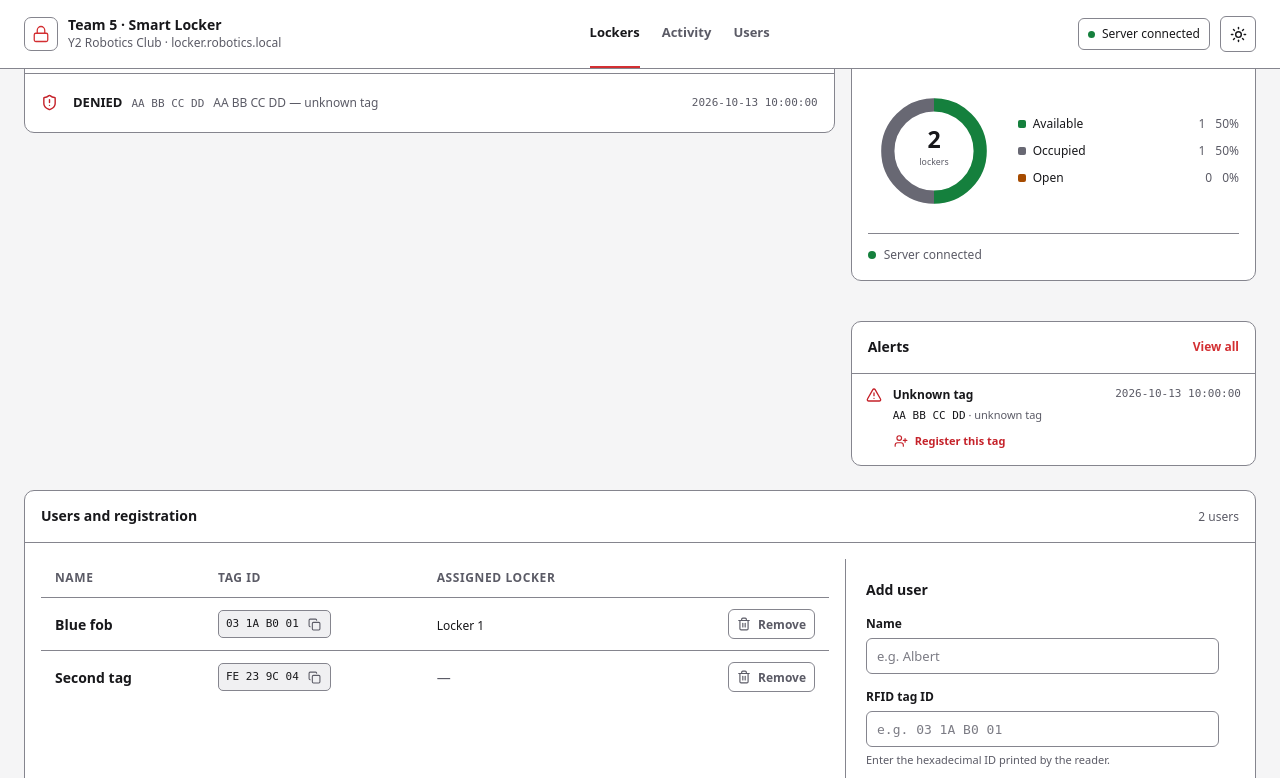
Scenario: dashboard runtime regressions › 'Register this tag' pre-fills the form every time, even for the same tag
The width and height of the screenshot is (1280, 778).
(page scrolled)
Step 1. Click the button "Register this tag" → (950, 441), box [893, 428, 1006, 453]
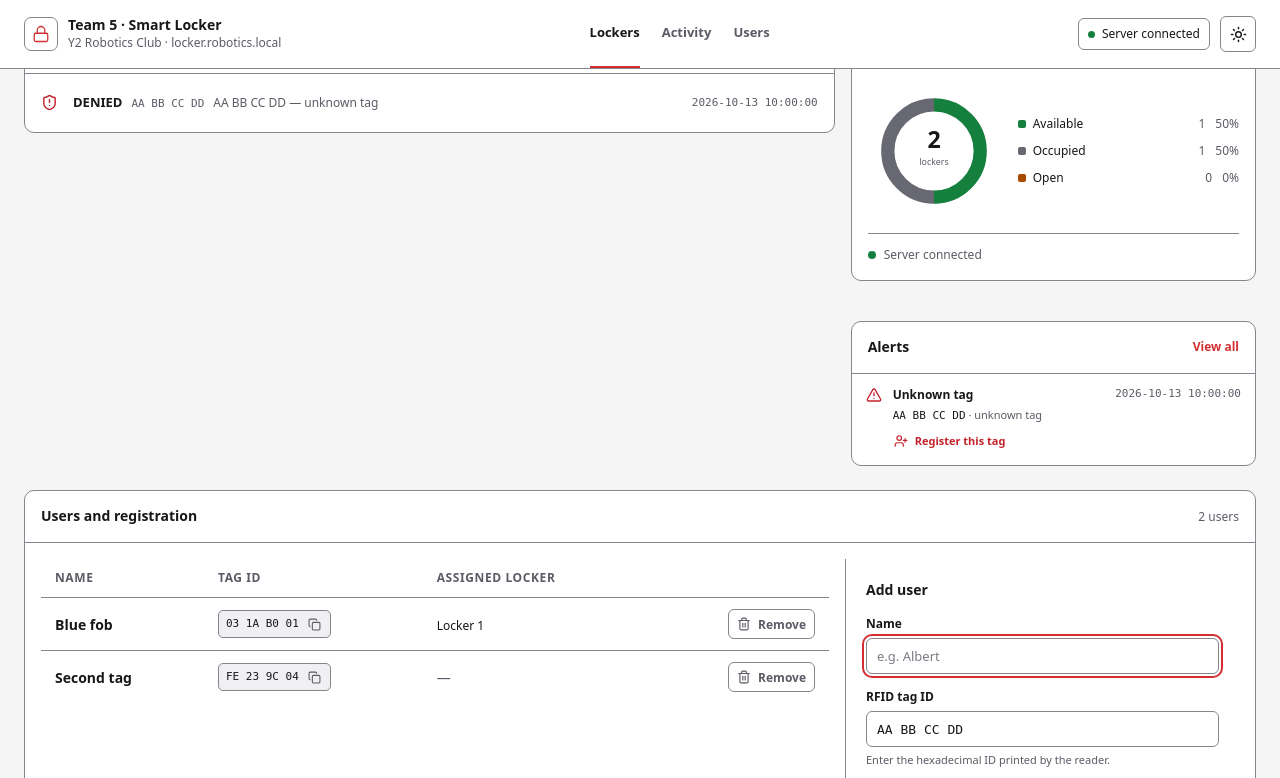
Expected: the field with id "user-tag-input" holds "AA BB CC DD"
Step 2. Clear the field with id "user-tag-input" → (1042, 729), box [866, 711, 1219, 747]
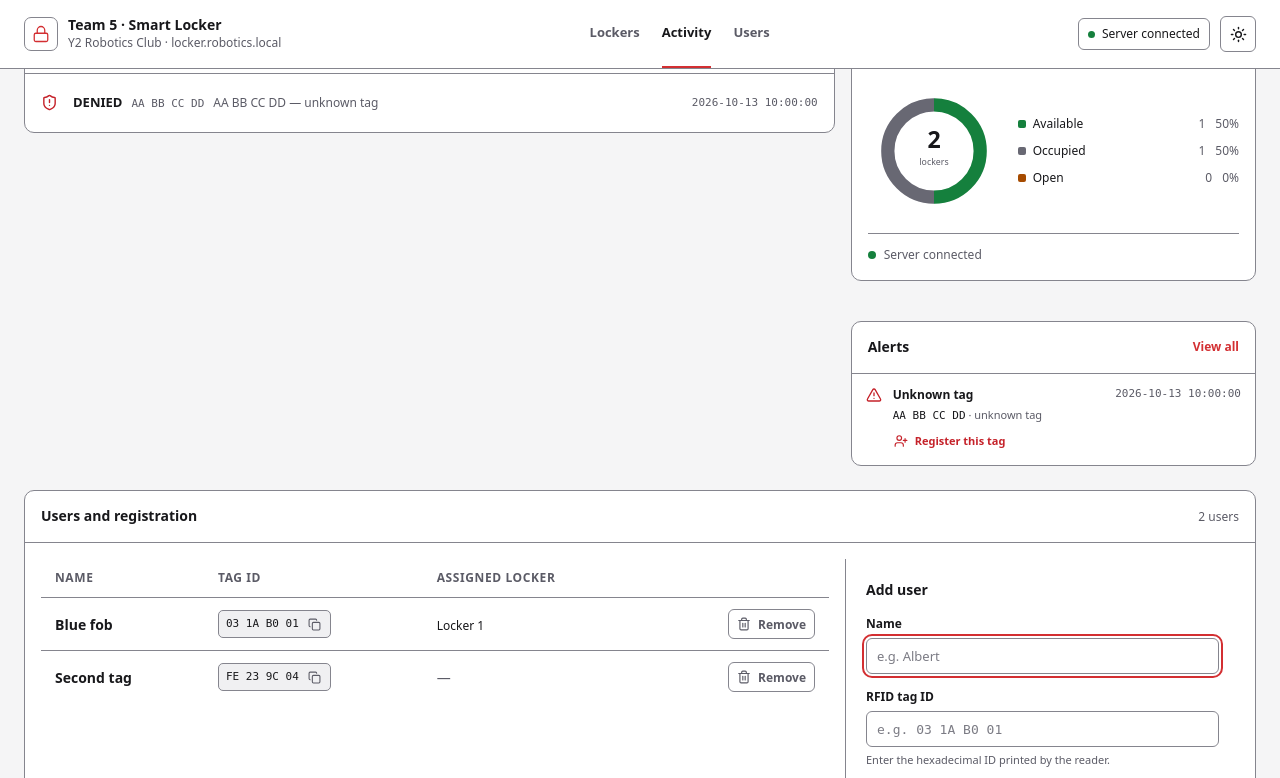
Step 3. Click the button "Register this tag" → (950, 441), box [893, 428, 1006, 453]
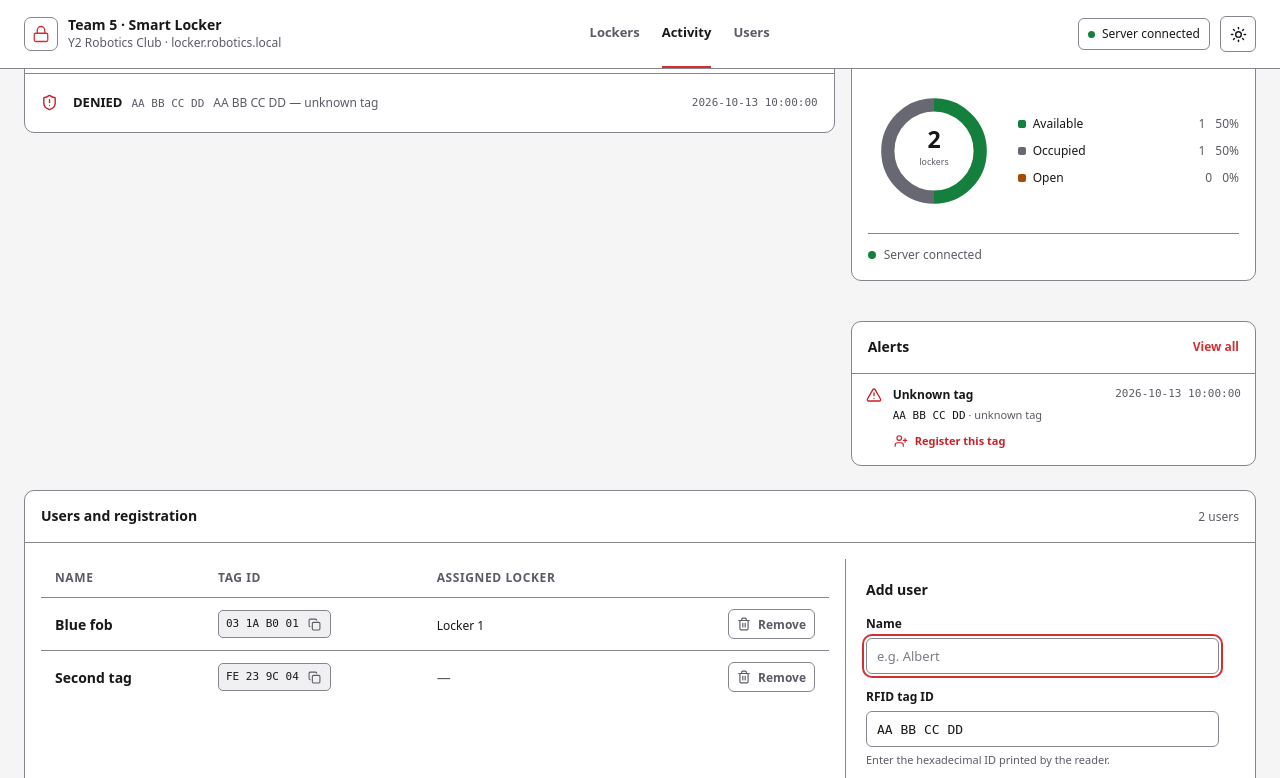
Expected: the field with id "user-tag-input" holds "AA BB CC DD", [866, 711, 1219, 747]
